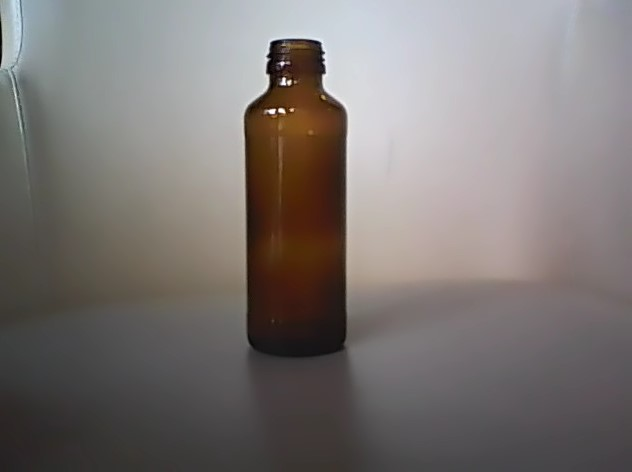Glass: (235, 34, 354, 362)
